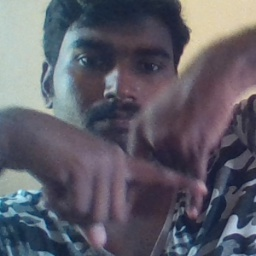H: (96, 114, 221, 240)
